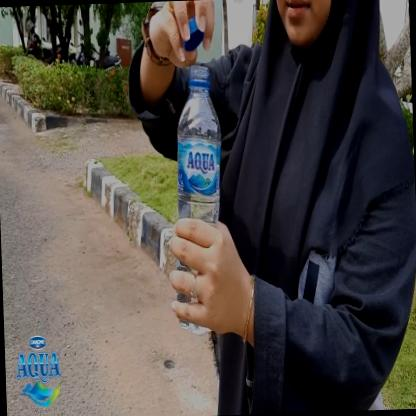plastic_bottles: (171, 51, 230, 339)
